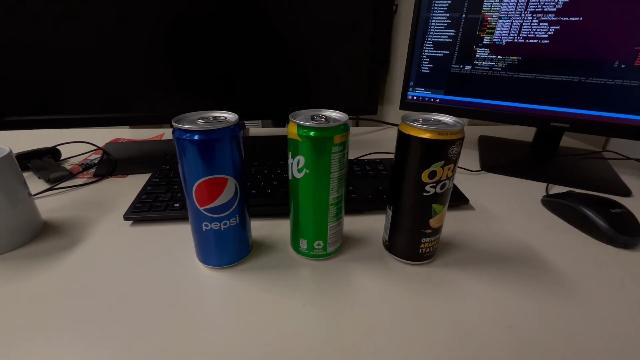OranSoda: (380, 110, 468, 266)
Pepsi: (171, 110, 255, 272)
Sprite: (284, 107, 352, 262)
